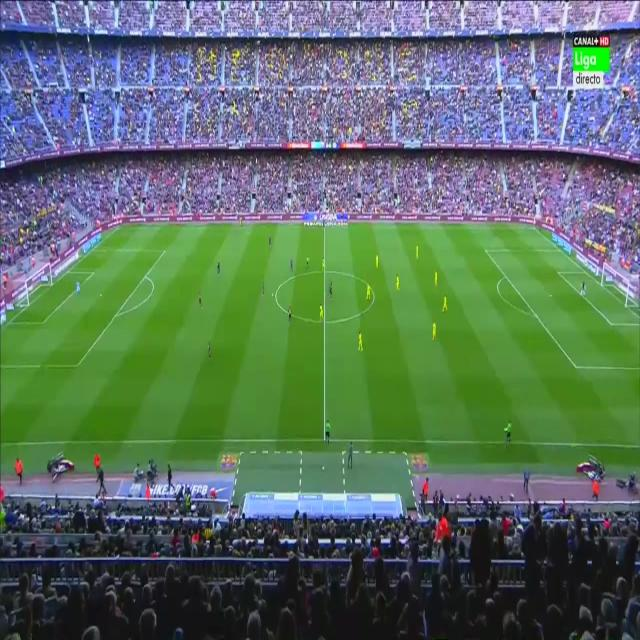Ball: (270, 290, 274, 300)
Goalkeeper: (578, 278, 586, 300), (74, 278, 82, 299)
Player: (355, 328, 364, 353), (440, 291, 449, 316), (206, 337, 214, 364), (394, 269, 402, 296), (364, 279, 372, 304), (431, 318, 438, 346), (266, 231, 274, 253), (196, 288, 204, 309), (328, 274, 334, 302), (432, 267, 439, 291), (214, 258, 222, 278), (320, 302, 326, 327), (374, 248, 380, 271), (288, 255, 294, 277), (286, 303, 292, 325), (260, 276, 266, 298), (415, 241, 421, 263), (321, 254, 327, 274)
Referee: (323, 417, 332, 446), (505, 418, 513, 446), (304, 252, 311, 272)
